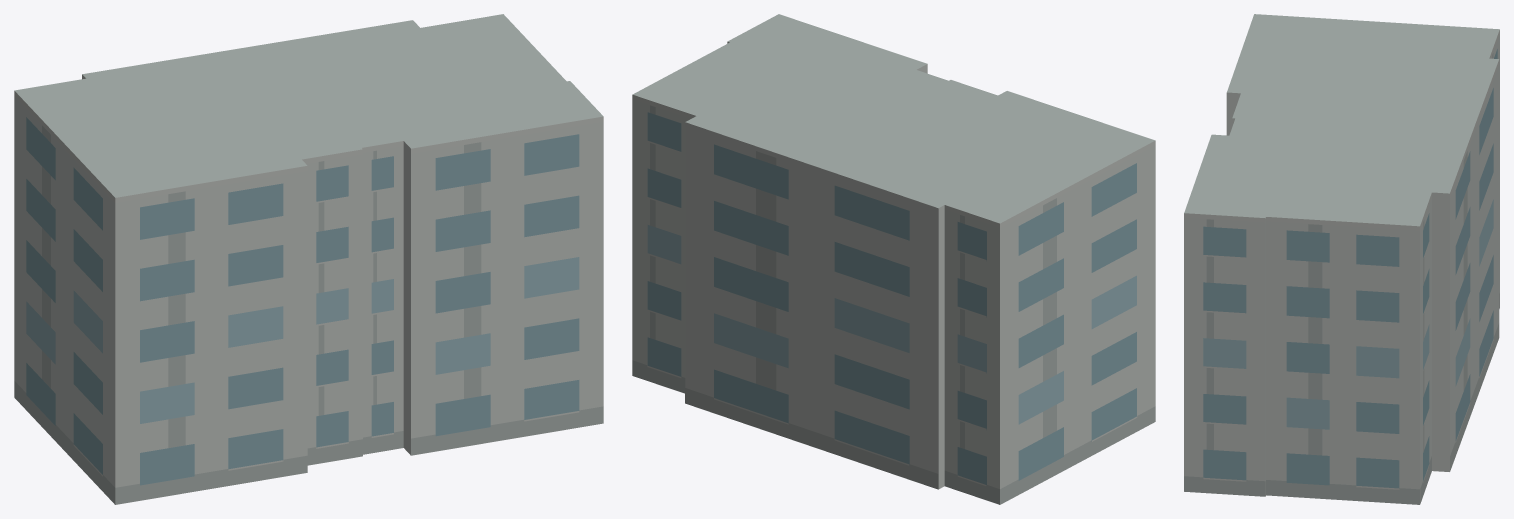
File: survey-upis-32832068.glb
3 views of the same model, side by side, from view 1: azimuth 30°, elevation 25°; view 2: azimuth 150°, elevation 25°; view 3: azimuth 270°, elevation 25° (orthographic). The views are drawn at different scales.
Parts seen in each view (by area): view 1: survey-upis-32832068.tmp; view 2: survey-upis-32832068.tmp; view 3: survey-upis-32832068.tmp.
Part boxes in pixels (box(x1,y1,x2,y2)): survey-upis-32832068.tmp: box(14, 14, 603, 504); survey-upis-32832068.tmp: box(632, 14, 1155, 504); survey-upis-32832068.tmp: box(1184, 14, 1499, 504).
Size of the model in its own units: 23.55 by 14.4 by 14.8.
